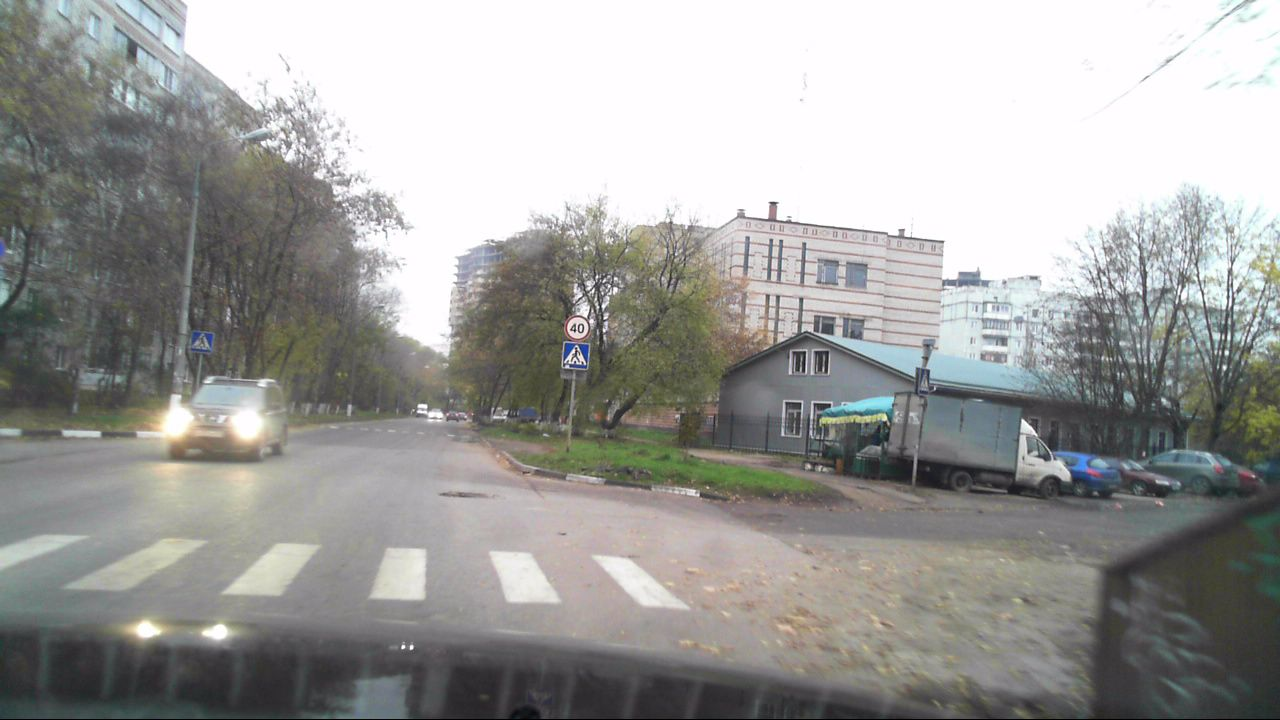speed_warning_40: (566, 315, 589, 339)
